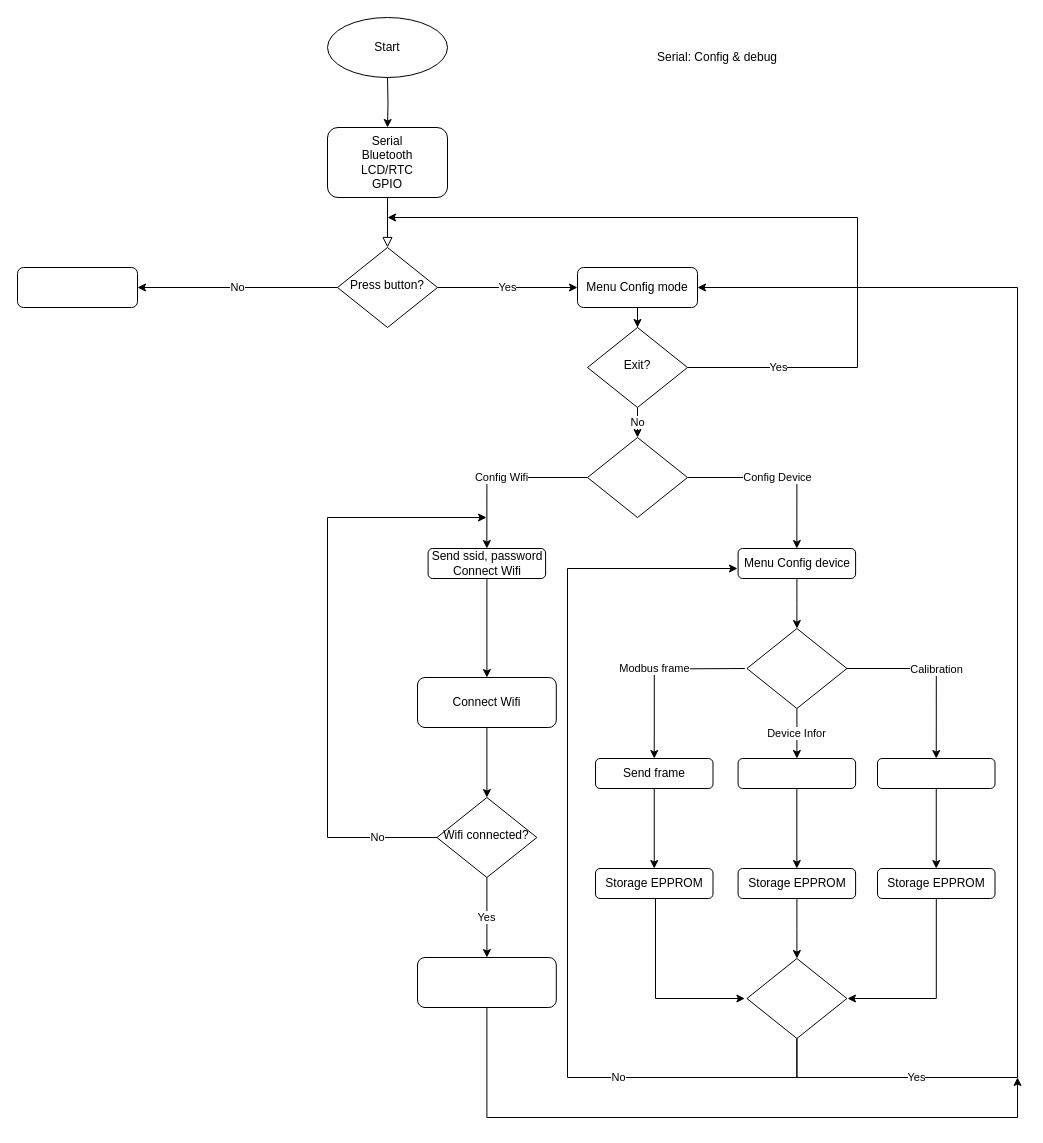
This 1043x1143 diagram has some shape labels left out. Each missing label, with the centre of its shape:
Config index?: (x=796, y=668)
CONFIG MODE?: (x=637, y=477)
Done?: (x=796, y=998)
Load EEPROM: (x=77, y=287)
Print LCD Storage data EEPROM: (x=486, y=982)
Send infor: (x=796, y=773)
Send offset: (x=935, y=773)
